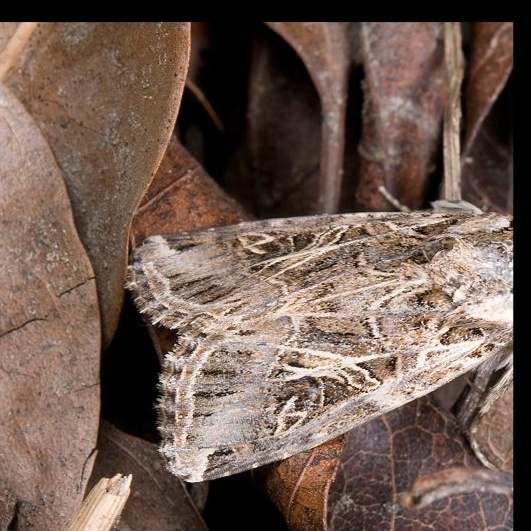Spodoptera litura: (122, 184, 512, 485)
